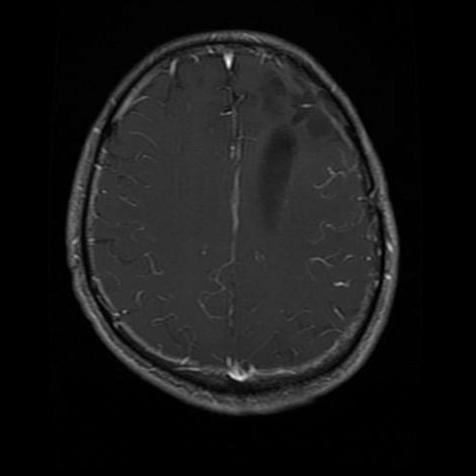Tumour-Glioma: (259, 81, 332, 130)
